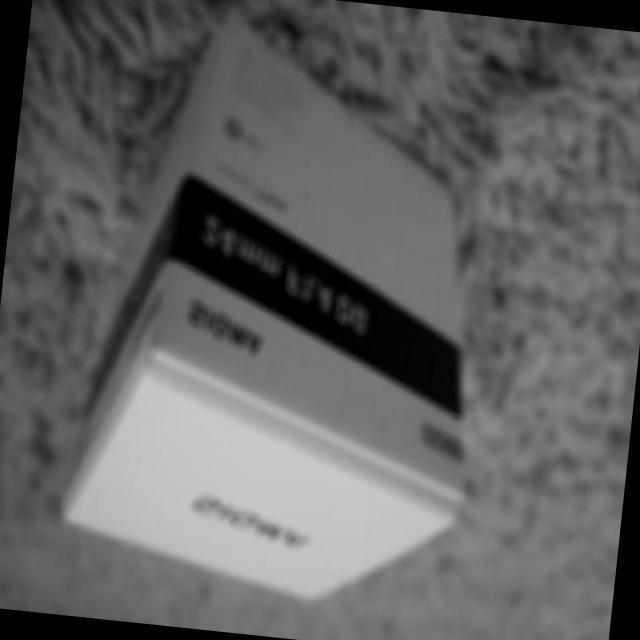box: (63, 8, 530, 623)
